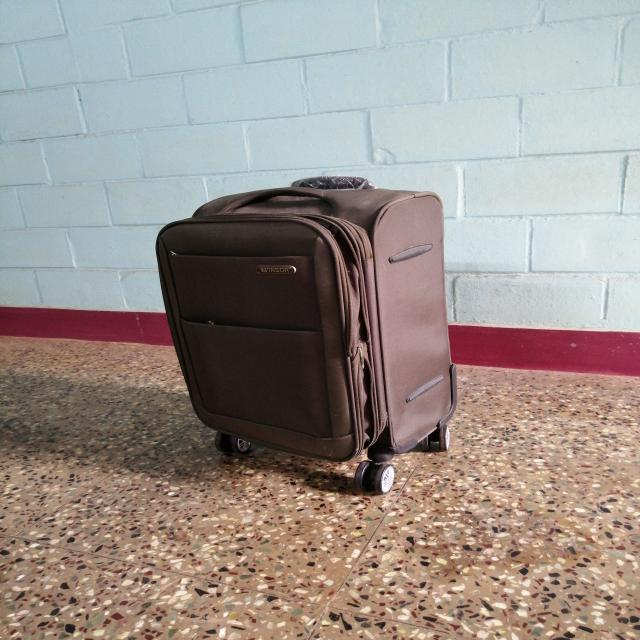suitcaserotation: (151, 172, 462, 496)
